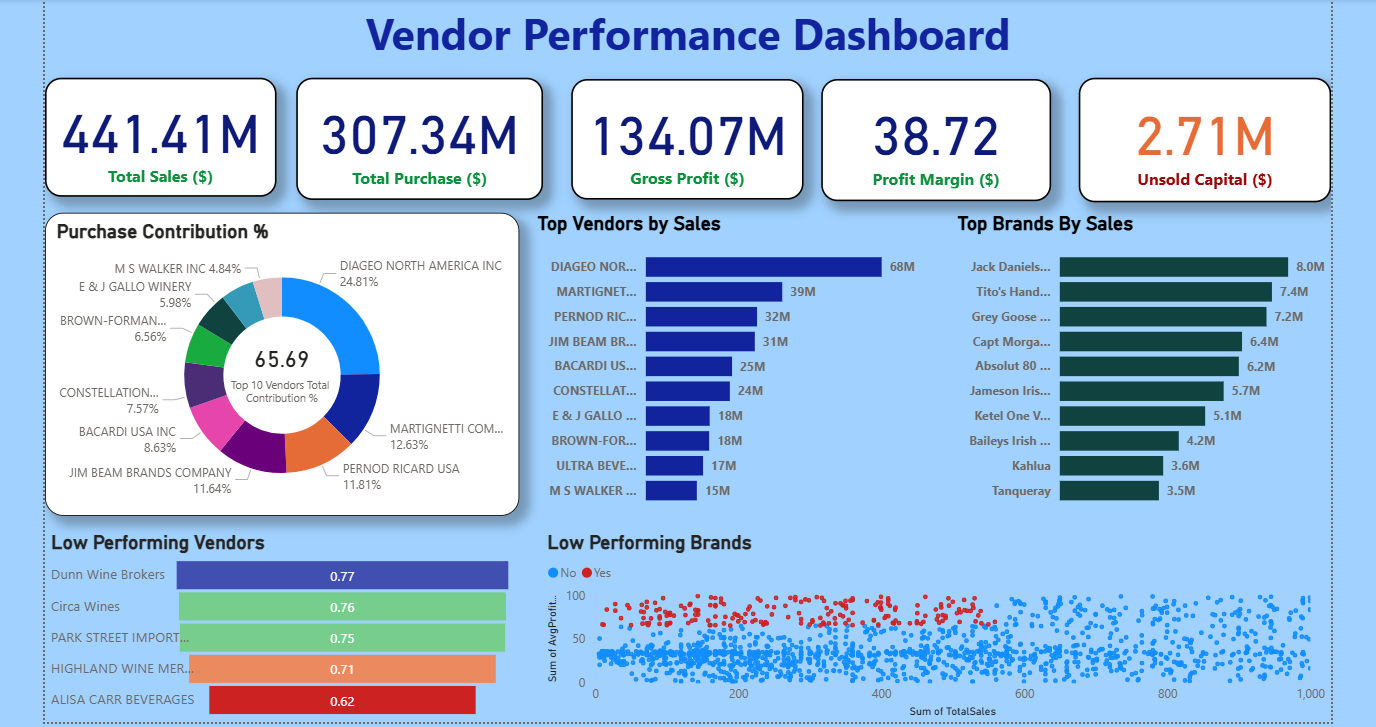

The dashboard page shown, as its layout file describes it:
{"tool":"powerbi","page":{"name":"Page 1","canvas":[1280,720],"ordinal":0},"visuals":[{"type":"card","fields":{"Values":["Sum(vendor_sales_summary.TotalSalesDollars)"]},"box":[0,78.6,230,118.6],"z":0},{"type":"card","fields":{"Values":["Sum(vendor_sales_summary.TotalPurchaseDollars)"]},"box":[250,78.6,245.7,121.4],"z":1000},{"type":"card","fields":{"Values":["Sum(vendor_sales_summary.GrossProfit)"]},"box":[524.3,80,231.4,120],"z":2000},{"type":"card","fields":{"Values":["Avg(vendor_sales_summary.ProfitMargin)"]},"box":[772.9,80,228.6,121.4],"z":3000},{"type":"card","fields":{"Values":["Sum(vendor_sales_summary.UnsoldCapital)"]},"box":[1028.6,78.6,251.4,124.3],"z":4000},{"type":"textbox","box":[0,0,1280,78.6],"z":5000},{"type":"donutChart","title":"Purchase Contribution % ","fields":{"Category":["PurchaseContribution.VendorName"],"Y":["Sum(PurchaseContribution.PurchaseContribution%)"],"Series":["PurchaseContribution.VendorName"]},"box":[0,213.3,471.7,301.7],"z":6000},{"type":"card","fields":{"Values":["Sum(PurchaseContribution.PurchaseContribution%)"]},"box":[151.4,344.3,168.6,124.3],"z":7000},{"type":"barChart","title":"Top Vendors by Sales","fields":{"Category":["vendor_sales_summary.VendorName"],"Y":["Sum(vendor_sales_summary.TotalSalesDollars)"]},"box":[485,213.3,401.7,301.7],"z":8000},{"type":"barChart","title":"Top Brands By Sales","fields":{"Category":["vendor_sales_summary.Description"],"Y":["Sum(vendor_sales_summary.TotalSalesDollars)"]},"box":[903.3,213.3,376.7,301.7],"z":9000},{"type":"funnel","title":"Low Performing Vendors","fields":{"Category":["LowTurnoverVendor.VendorName"],"Y":["Avg(LowTurnoverVendor.AvgStockTurnOver)"]},"box":[1.4,530,470,190],"z":10000},{"type":"scatterChart","title":"Low Performing Brands","fields":{"Category":["BrandPerformance.Description"],"X":["Sum(BrandPerformance.TotalSales)"],"Y":["Sum(BrandPerformance.AvgProfitMargin)"],"Series":["BrandPerformance.TargetBrand"]},"box":[495.7,530,784.3,190],"z":11000}]}

Visuals, with their boxes on the page's 1280x720 design canvas (x1, y1, x2, y2). These are canvas units, not pixel positions in the 1376x727 screenshot, which may show the page scaled, cropped or inside an application window:
card - Sum(vendor_sales_summary.TotalSalesDollars): 0,79,230,197
card - Sum(vendor_sales_summary.TotalPurchaseDollars): 250,79,496,200
card - Sum(vendor_sales_summary.GrossProfit): 524,80,756,200
card - Avg(vendor_sales_summary.ProfitMargin): 773,80,1002,201
card - Sum(vendor_sales_summary.UnsoldCapital): 1029,79,1280,203
textbox: 0,0,1280,79
"Purchase Contribution % " donutChart: 0,213,472,515
card - Sum(PurchaseContribution.PurchaseContribution%): 151,344,320,469
"Top Vendors by Sales" barChart: 485,213,887,515
"Top Brands By Sales" barChart: 903,213,1280,515
"Low Performing Vendors" funnel: 1,530,471,720
"Low Performing Brands" scatterChart: 496,530,1280,720
